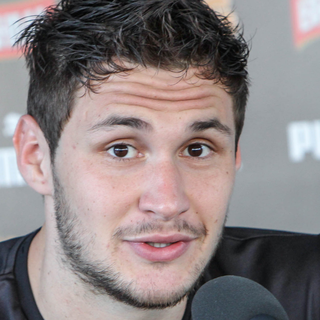eye: (93, 130, 155, 164), (175, 132, 225, 169)
